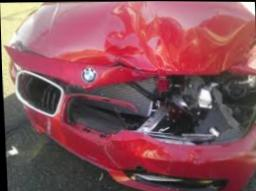Bonnet: (96, 2, 240, 75)
Bumper: (122, 108, 256, 186)
Light: (149, 75, 245, 115)
